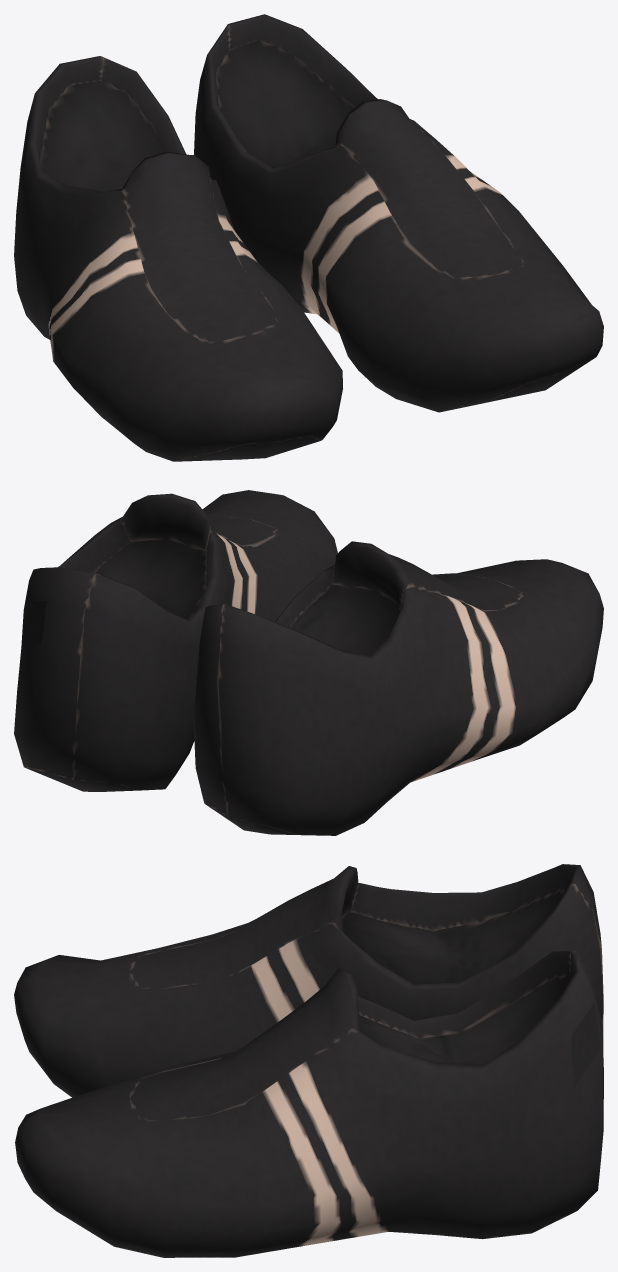
The model's file is shoetest2.fbx.
3 renders of one model, top to bottom at view 1: azimuth 30°, elevation 25°; view 2: azimuth 150°, elevation 25°; view 3: azimuth 270°, elevation 25°, orthographic. The views are drawn at different scales.
Visible parts, largest first — view 1: Shoes; view 2: Shoes; view 3: Shoes.
Boxes of the visible parts, x1,y1,x2,y2 form: Shoes: (14,14,603,461); Shoes: (14,490,603,835); Shoes: (14,864,603,1257).
Bounding box in the file's own units: 29.58 × 14.68 × 29.86.
